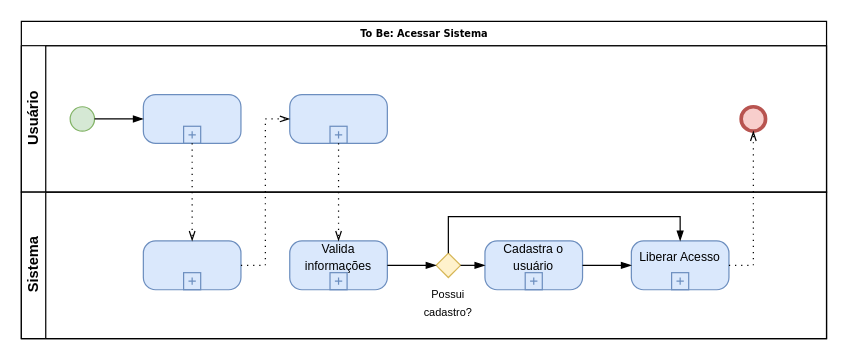
Some shapes in this 848 by 360 pixel diagram are drawn without their labels. The centre of each missing label's shape, as x and y in pixels:
Acessa Aplicativo: (191,118)
Exibe campos de identificação: (191,265)
Insere as informações de identificação: (338,118)
